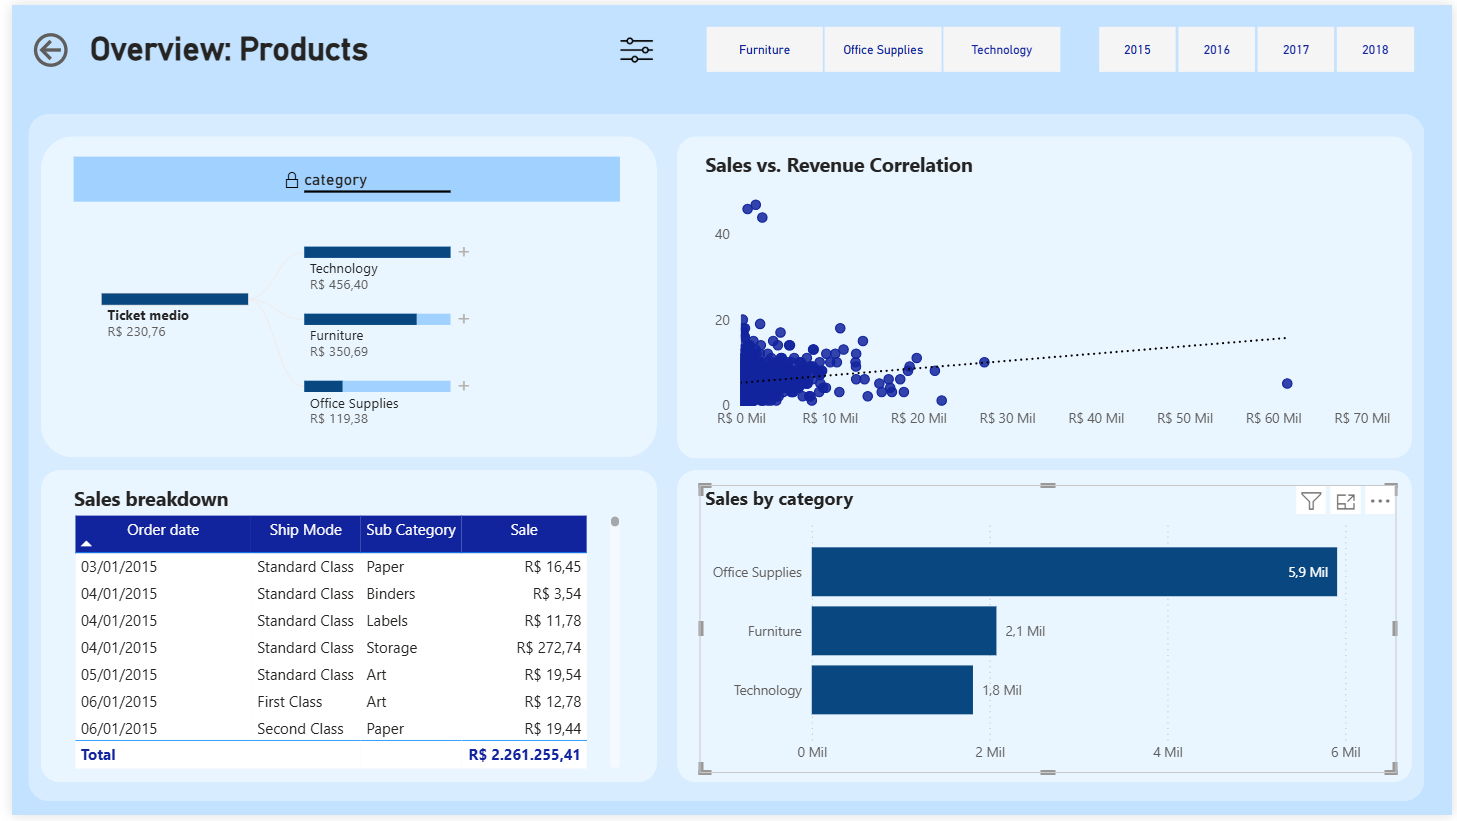

This screenshot's page, from the dashboard's own definition file:
{"tool":"powerbi","page":{"name":"PRODUCTS","canvas":[1280,720],"ordinal":1},"visuals":[{"type":"shape","box":[14.4,96.7,1241.1,611.1],"z":0},{"type":"shape","box":[25.6,116.7,547.8,285.6],"z":1000},{"type":"shape","box":[591.1,116.7,653.3,286.7],"z":2000},{"type":"shape","box":[591.1,413.3,653.3,277.8],"z":3000},{"type":"shape","box":[25.6,413.3,547.8,277.8],"z":4000},{"type":"tableEx","title":"Sales breakdown","fields":{"Values":["public vw_fatvendas.data compra","public vw_fatvendas.modo_envio","public vw_dproduto.sub_category","Sum(public vw_fatvendas.venda)"]},"box":[50,426.7,495.6,256.7],"z":5000},{"type":"actionButton","box":[14.4,20,100,40],"z":6000},{"type":"barChart","title":"Sales by category","fields":{"Y":["public vw_fatvendas.Total vendas"],"Category":["public vw_dproduto.category"]},"box":[611.4,427.1,618.6,255.7],"z":7000},{"type":"scatterChart","title":"Sales vs. Revenue Correlation","fields":{"X":["public vw_fatvendas.Receita"],"Y":["public vw_fatvendas.Total vendas"],"Category":["public vw_dproduto.product_name"]},"box":[611.1,130,618.9,255.6],"z":8000},{"type":"textbox","box":[64.4,16.7,326.7,45.6],"z":9000},{"type":"slicer","fields":{"Values":["dcalendario.Ano"]},"box":[940,12.2,330,54.4],"z":10000},{"type":"image","box":[518.9,24.4,72.2,31.1],"z":11000},{"type":"slicer","fields":{"Values":["public vw_dproduto.category"]},"box":[591.1,12.2,364.4,54.4],"z":12000},{"type":"decompositionTreeVisual","fields":{"Analyze":["public vw_fatvendas.Ticket medio"],"ExplainBy":["public vw_dproduto.category","public vw_dproduto.sub_category"]},"box":[50,130,495.6,263.3],"z":13000}]}

Visuals, with their boxes in screenshot pixels (x1, y1, x2, y2), scaled from the page's 1280x720 canvas onto the 1457x821 screenshot:
shape: x1=16 y1=110 x2=1429 y2=807
shape: x1=29 y1=133 x2=653 y2=459
shape: x1=673 y1=133 x2=1416 y2=460
shape: x1=673 y1=471 x2=1416 y2=788
shape: x1=29 y1=471 x2=653 y2=788
"Sales breakdown" tableEx: x1=57 y1=487 x2=621 y2=779
actionButton: x1=16 y1=23 x2=130 y2=68
"Sales by category" barChart: x1=696 y1=487 x2=1400 y2=779
"Sales vs. Revenue Correlation" scatterChart: x1=696 y1=148 x2=1400 y2=440
textbox: x1=73 y1=19 x2=445 y2=71
slicer - dcalendario.Ano: x1=1070 y1=14 x2=1446 y2=76
image: x1=591 y1=28 x2=673 y2=63
slicer - public vw_dproduto.category: x1=673 y1=14 x2=1088 y2=76
decompositionTreeVisual - public vw_fatvendas.Ticket medio x public vw_dproduto.category: x1=57 y1=148 x2=621 y2=448
